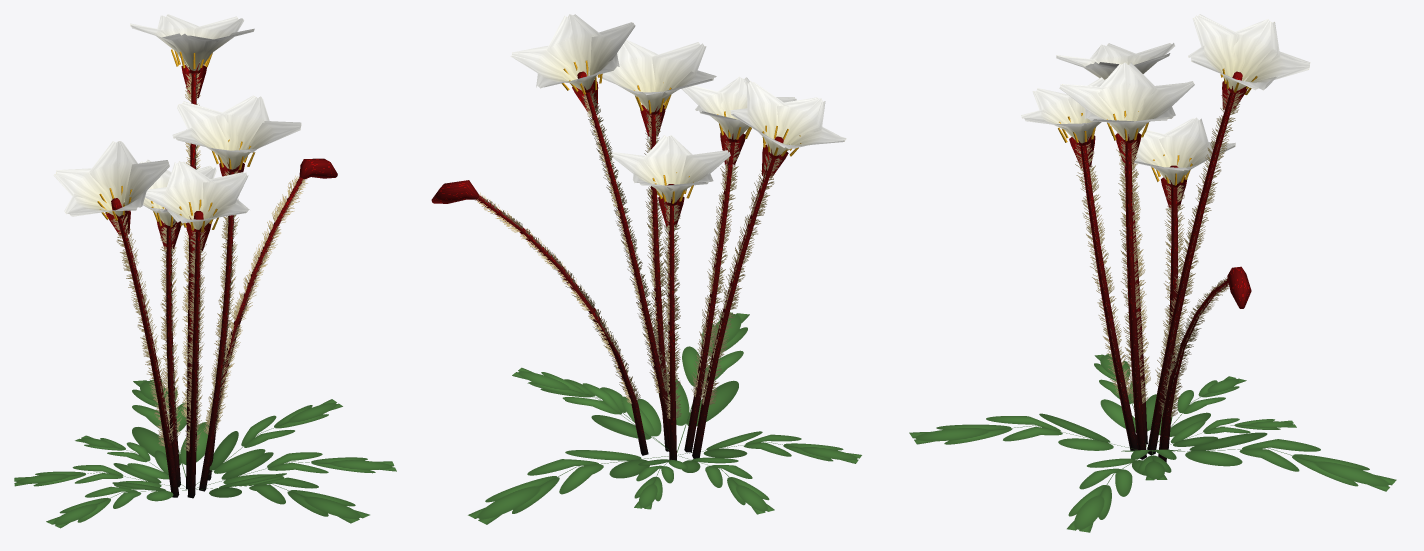
The model's file is arctic_poppy_v02_LOD1.glb.
The picture shows the model from 3 angles, left to right: view 1: azimuth 30°, elevation 25°; view 2: azimuth 150°, elevation 25°; view 3: azimuth 270°, elevation 25°; orthographic projection. The views are drawn at different scales.
Visible parts, largest first — view 1: arctic_poppy_v02_LOD1; view 2: arctic_poppy_v02_LOD1; view 3: arctic_poppy_v02_LOD1.
Part boxes in pixels (left/top/right/bottom): arctic_poppy_v02_LOD1: left=14, top=14, right=396, bottom=528; arctic_poppy_v02_LOD1: left=431, top=14, right=861, bottom=524; arctic_poppy_v02_LOD1: left=909, top=14, right=1396, bottom=532.
Bounding box in the file's own units: 0.1919 × 0.2231 × 0.2308.
Materials: 5 (5 with a texture image).
